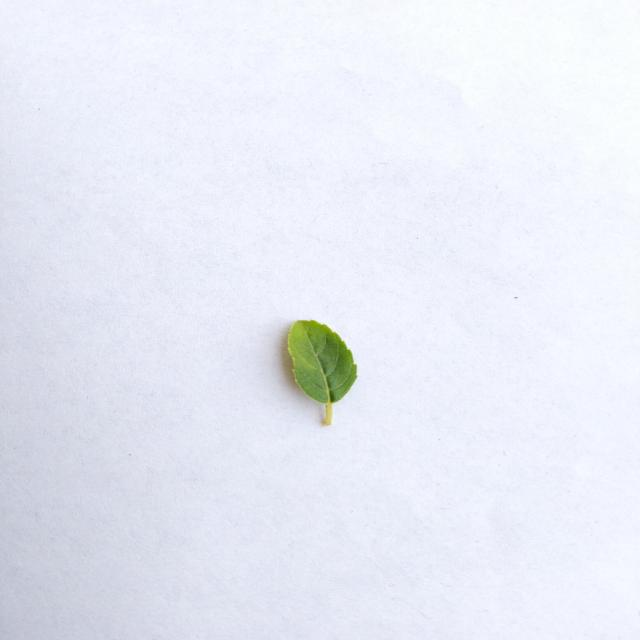tulsi: (288, 320, 357, 425)
